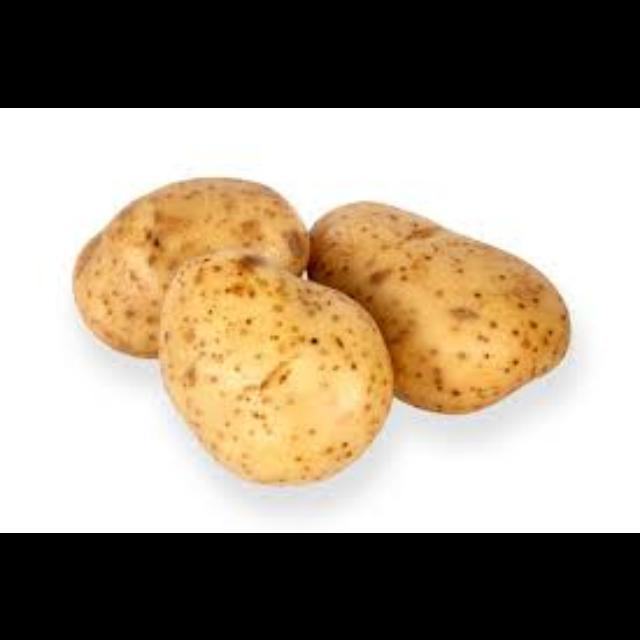Diseased-fungal potato: (304, 196, 576, 417), (156, 253, 398, 494), (65, 172, 312, 368)
